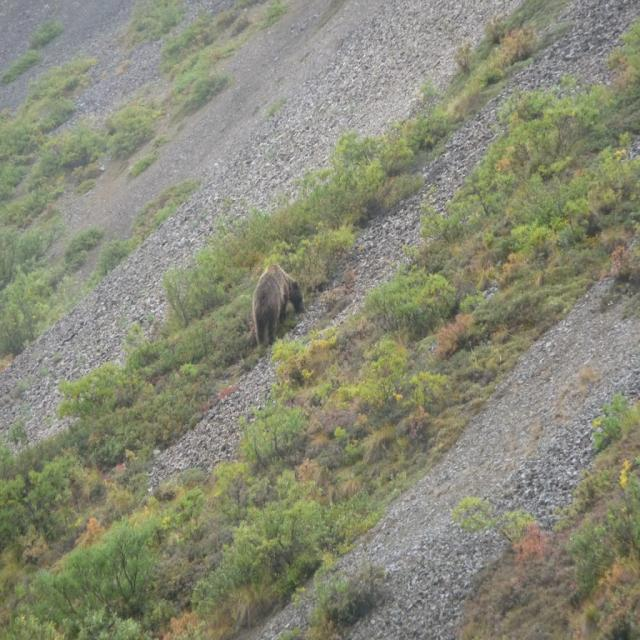Cheetahs: (252, 258, 305, 349)
